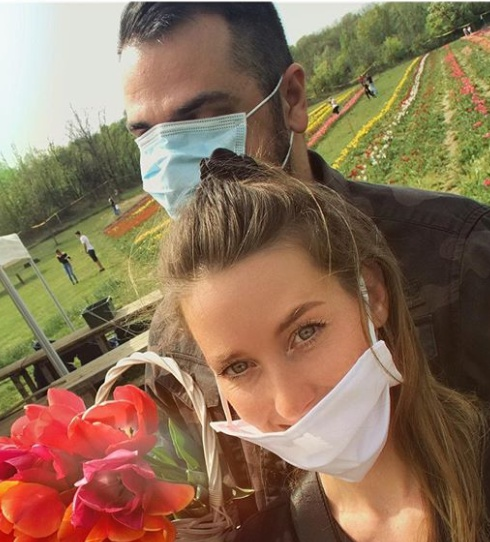nose: (272, 395, 313, 421)
